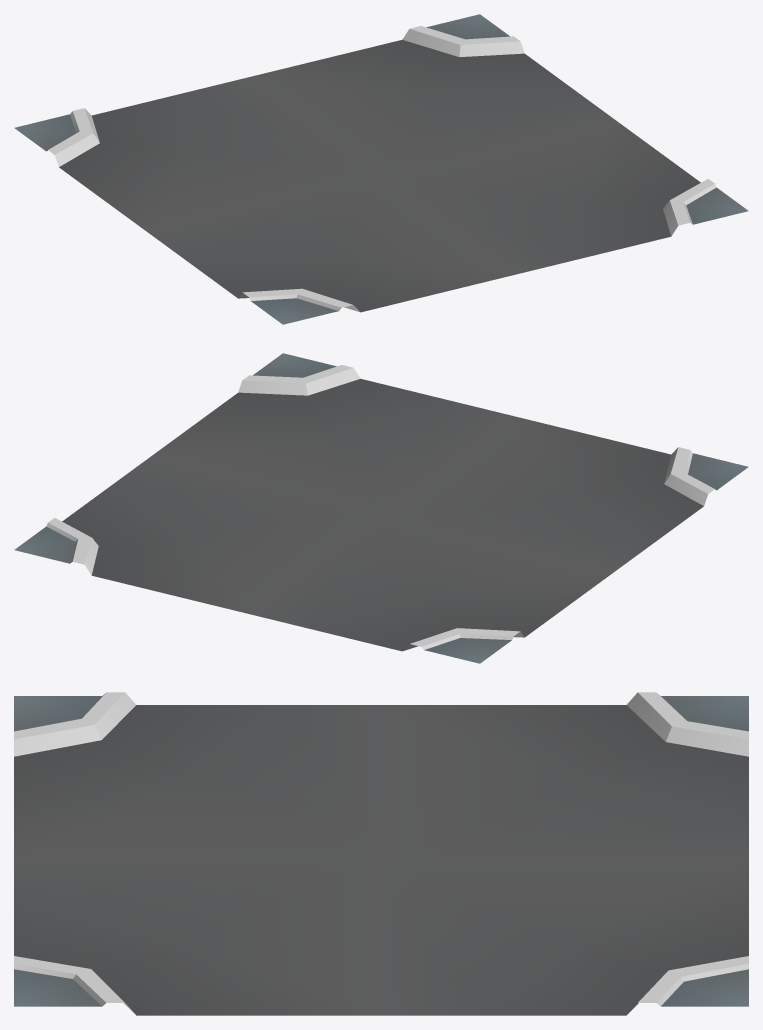
File: SRoad04.fbx
3 renders of one model, top to bottom at view 1: azimuth 30°, elevation 25°; view 2: azimuth 150°, elevation 25°; view 3: azimuth 270°, elevation 25°, orthographic. The views are drawn at different scales.
Parts seen in each view (by area): view 1: SRoad16; view 2: SRoad16; view 3: SRoad16.
Part boxes in pixels (box(x1,y1,x2,y2)): SRoad16: box(14, 14, 748, 324); SRoad16: box(14, 353, 748, 663); SRoad16: box(14, 692, 748, 1015).
Size of the model in its own units: 2 by 0.038 by 2.
Materials: 1 (1 with a texture image).
